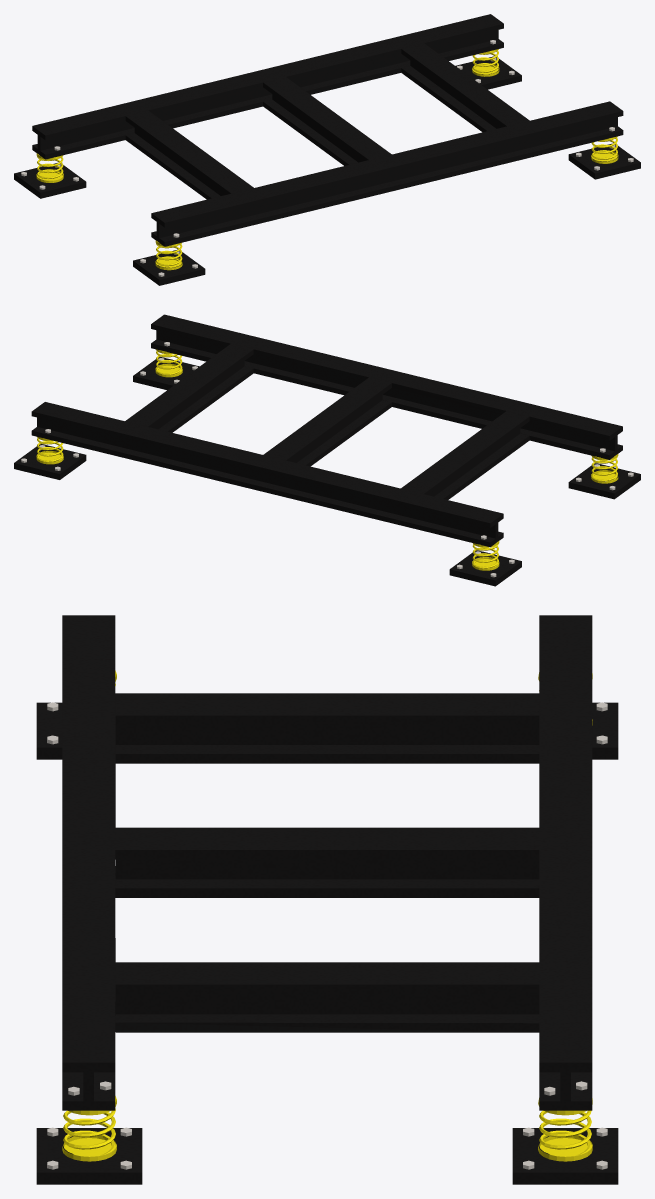
The model's file is pumpbasenoTop.fbx.
3 views of the same model, one above another, from view 1: azimuth 30°, elevation 25°; view 2: azimuth 150°, elevation 25°; view 3: azimuth 270°, elevation 25° (orthographic). The views are drawn at different scales.
Parts seen in each view (by area): view 1: PumpMountnotop; view 2: PumpMountnotop; view 3: PumpMountnotop.
Part boxes in pixels (<box>): PumpMountnotop: <box>14,14,640,285</box>; PumpMountnotop: <box>14,314,640,586</box>; PumpMountnotop: <box>36,615,618,1184</box>.
Size of the model in its own units: 5.25 by 0.5783 by 2.75.
